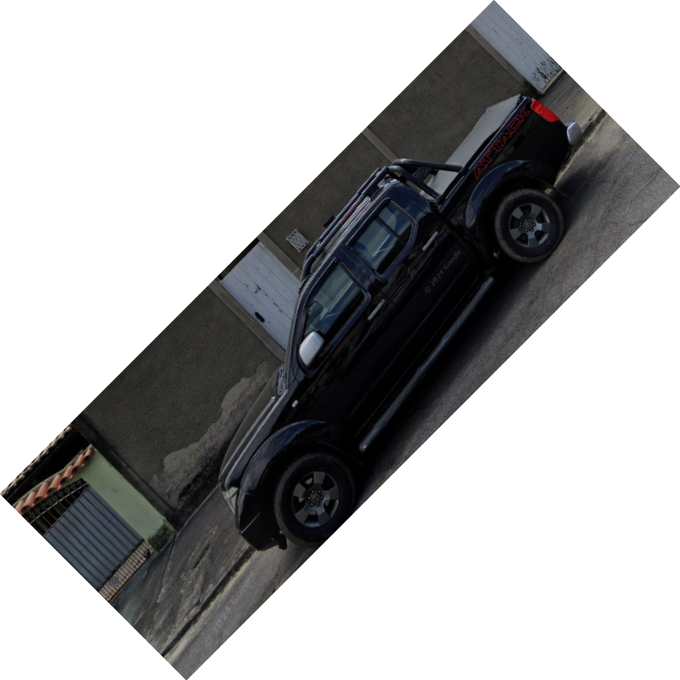car: (219, 95, 580, 552)
